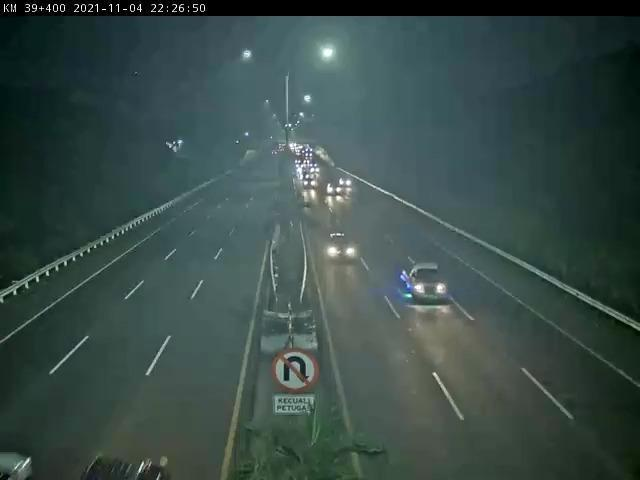car: (325, 232, 357, 264)
truck: (400, 266, 447, 305)
